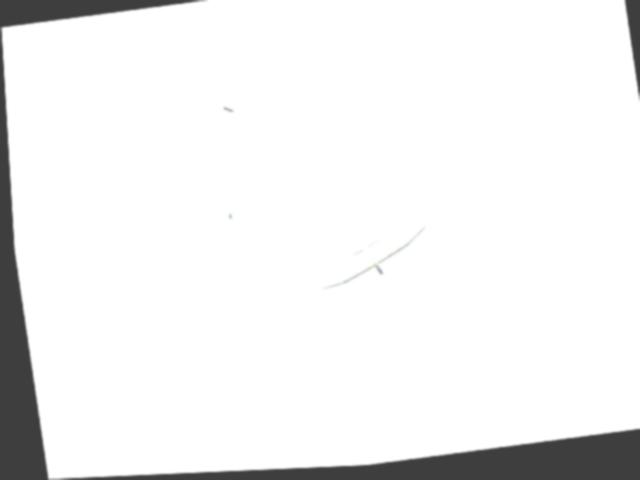uav: (290, 208, 444, 298)
